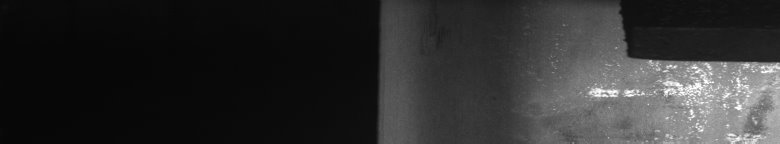kb: (586, 12, 776, 136)
